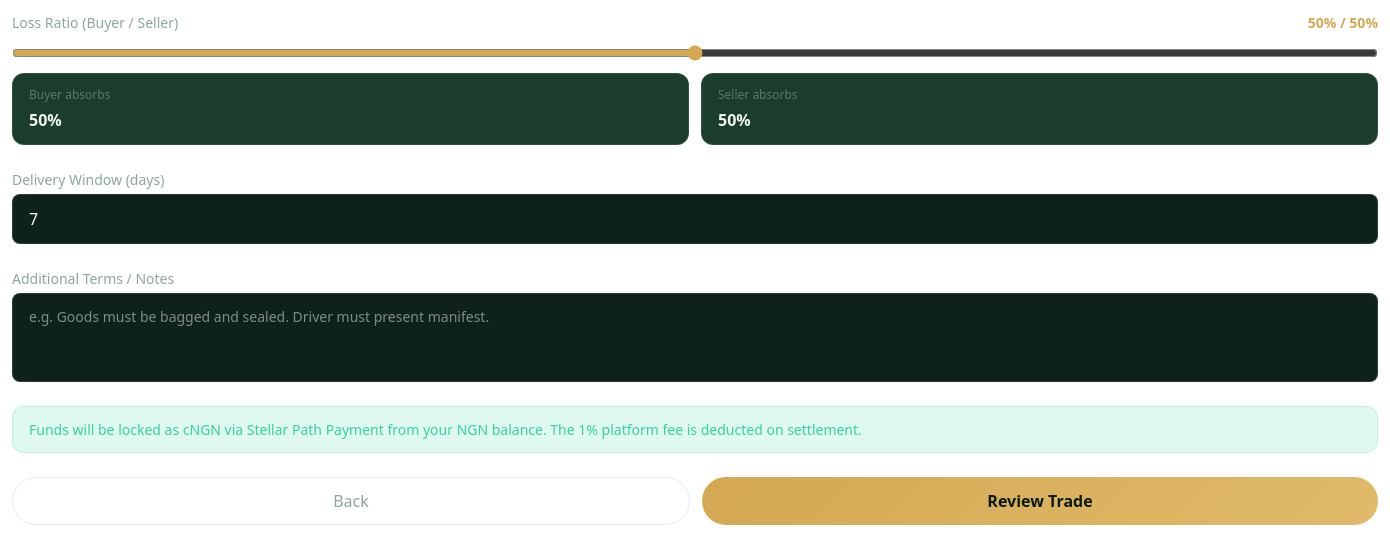
Test: Step2Negotiation › loss ratio slider › should update buyer absorbs percentage when slider changes
The image size is (1390, 542).
Set the slider to "80". click: {"x": 1100, "y": 53}
box: [12,45,1378,61]
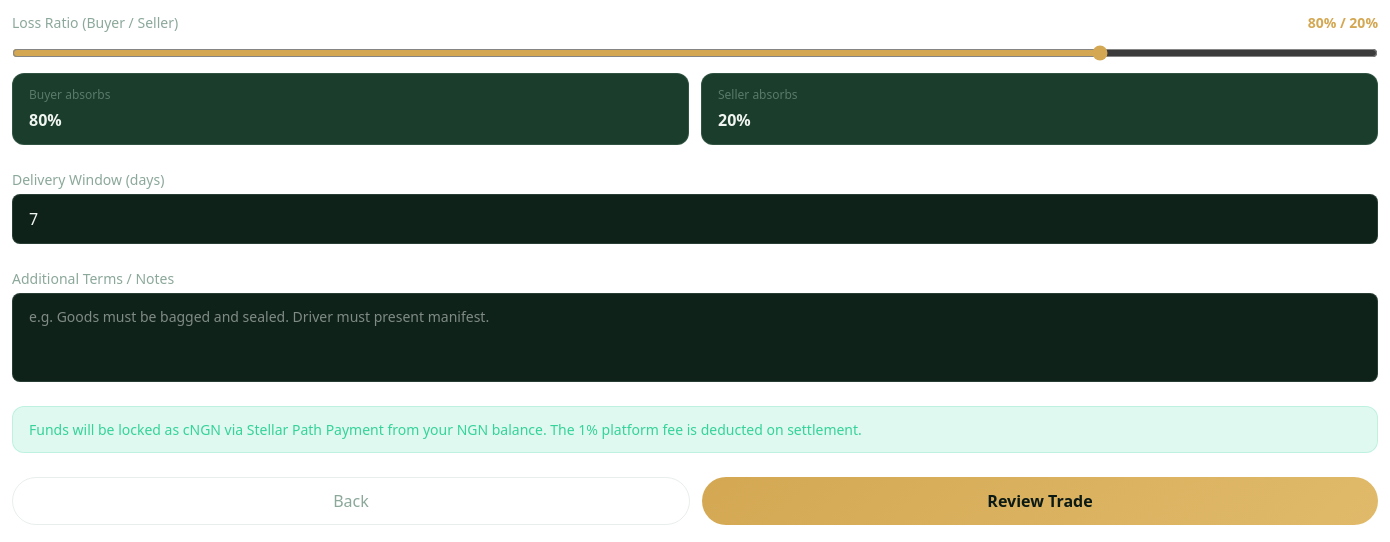
Check: the text "80%" is shown, box [29,109,62,131]
